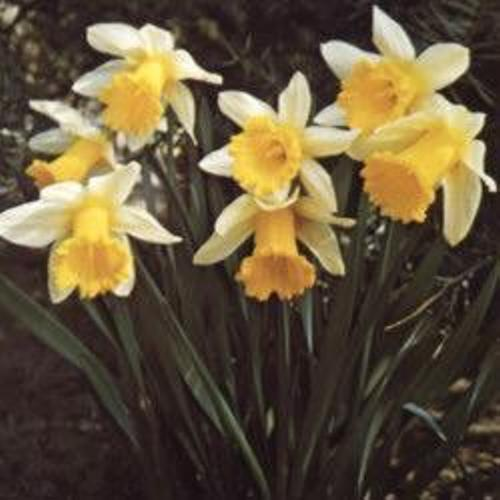flower1: (316, 7, 496, 244), (192, 71, 360, 299), (2, 157, 185, 305), (71, 23, 222, 148)
